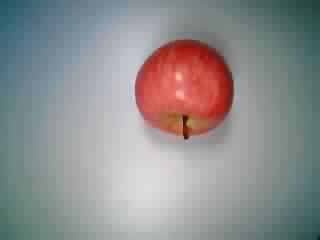apple: (131, 37, 236, 139)
